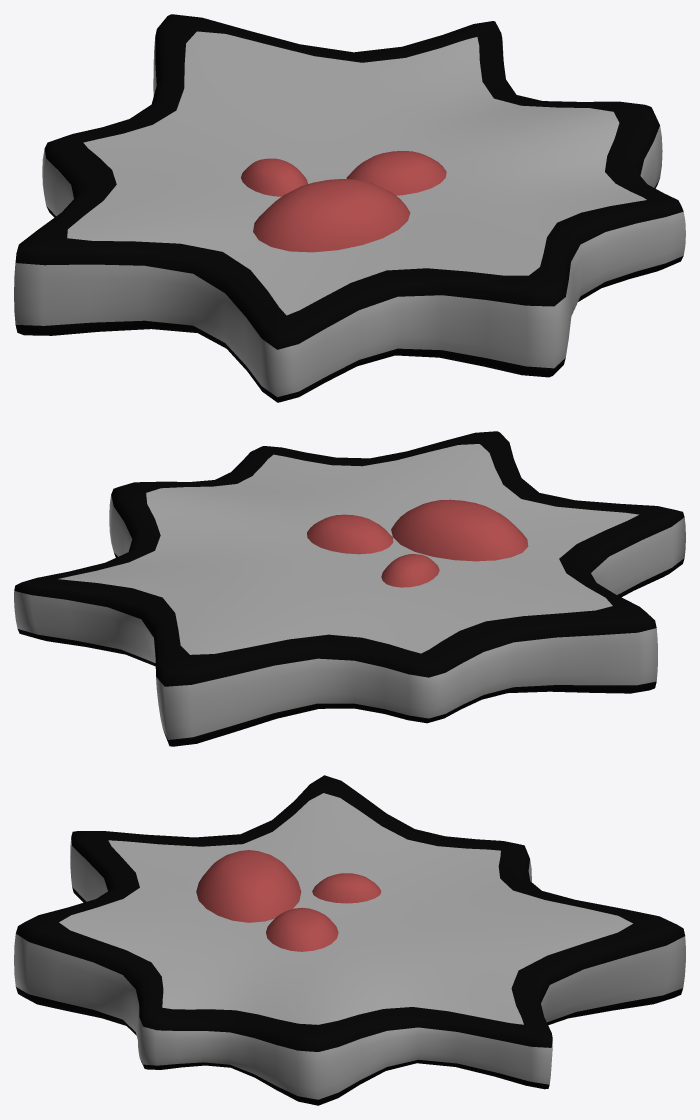
File: spinattack.fbx
3 views of the same model, one above another, from view 1: azimuth 30°, elevation 25°; view 2: azimuth 150°, elevation 25°; view 3: azimuth 270°, elevation 25° (orthographic). The views are drawn at different scales.
Parts seen in each view (by area): view 1: spinattack; view 2: spinattack; view 3: spinattack.
Part boxes in pixels (x1,y1,x2,y2): spinattack: (14, 14, 685, 402); spinattack: (14, 431, 685, 746); spinattack: (14, 775, 685, 1105).
Size of the model in its own units: 2.26 by 0.4651 by 2.39.
